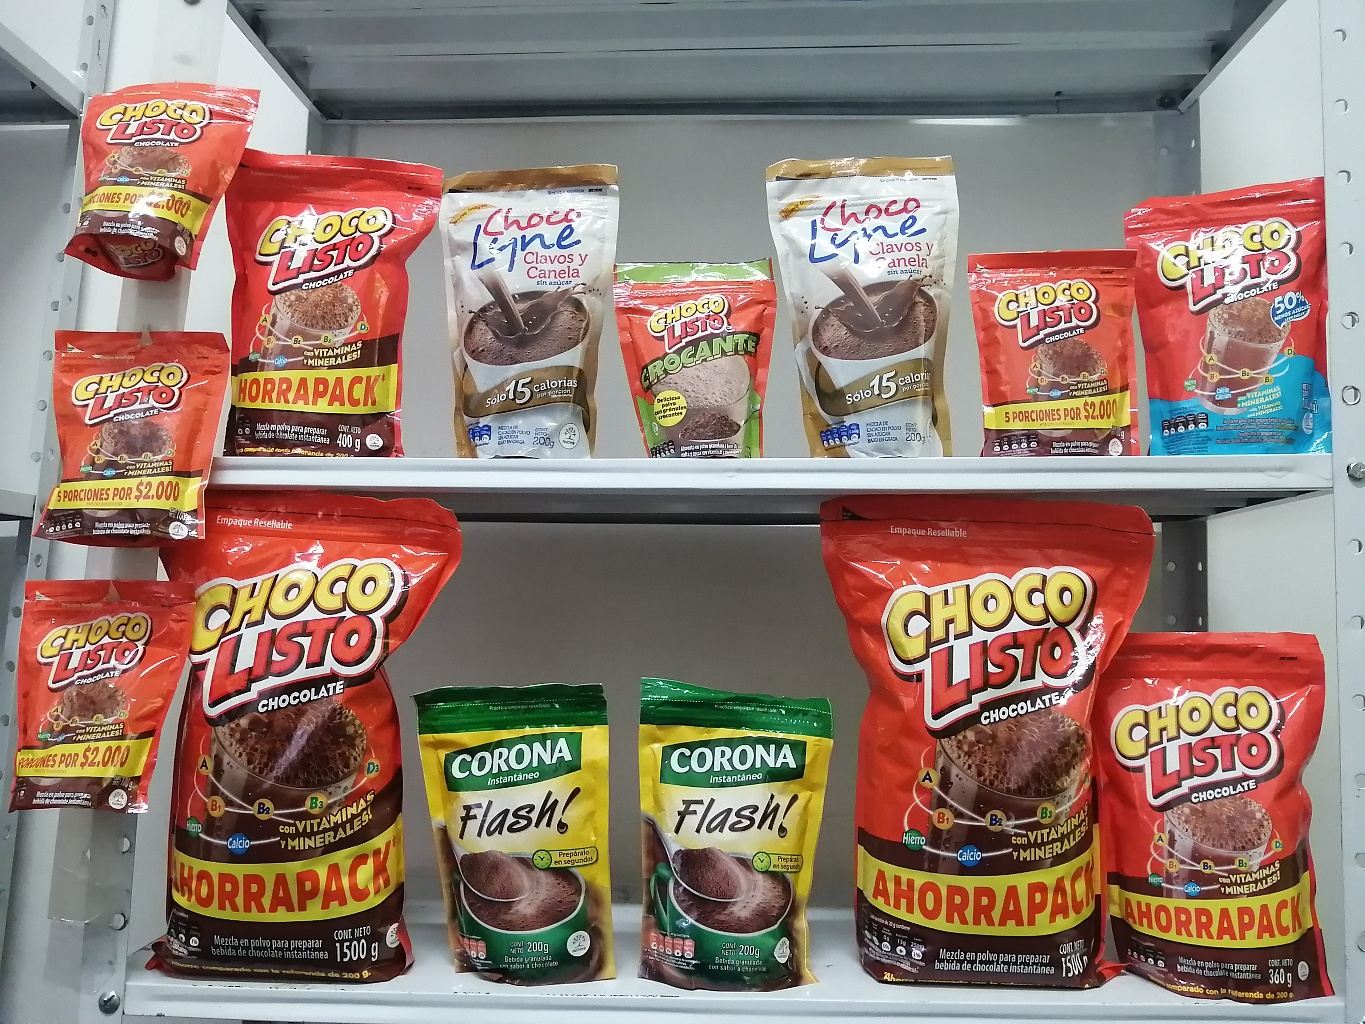COL0170102DYP10000: (623, 258, 790, 461)
COL0170103DYP1,500: (808, 489, 1161, 1004)
COL0170103DYP10000: (70, 72, 258, 272)
COL0170103DYP36000: (1104, 601, 1357, 1015)
COL0170103DYP40000: (213, 129, 447, 454)
COL0170104DYP20000: (1131, 161, 1332, 461)
